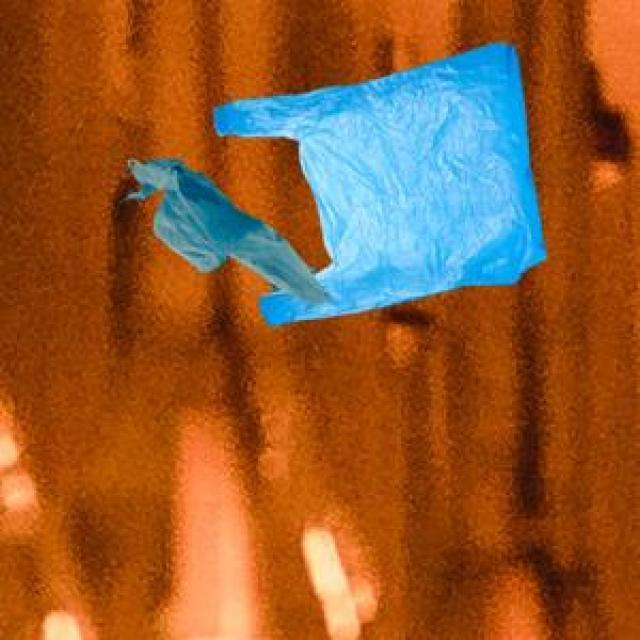waste: (127, 44, 545, 324), (412, 272, 455, 299)
